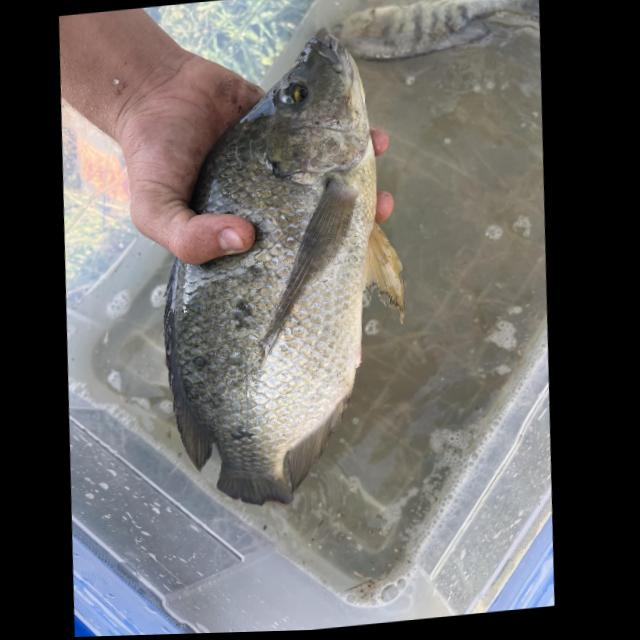Tilapia: (133, 23, 428, 515)
